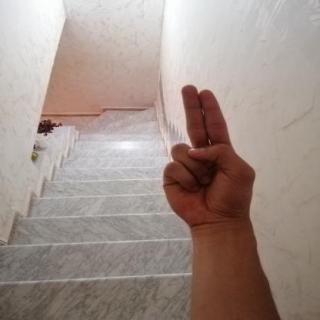TA: (151, 72, 265, 235)
